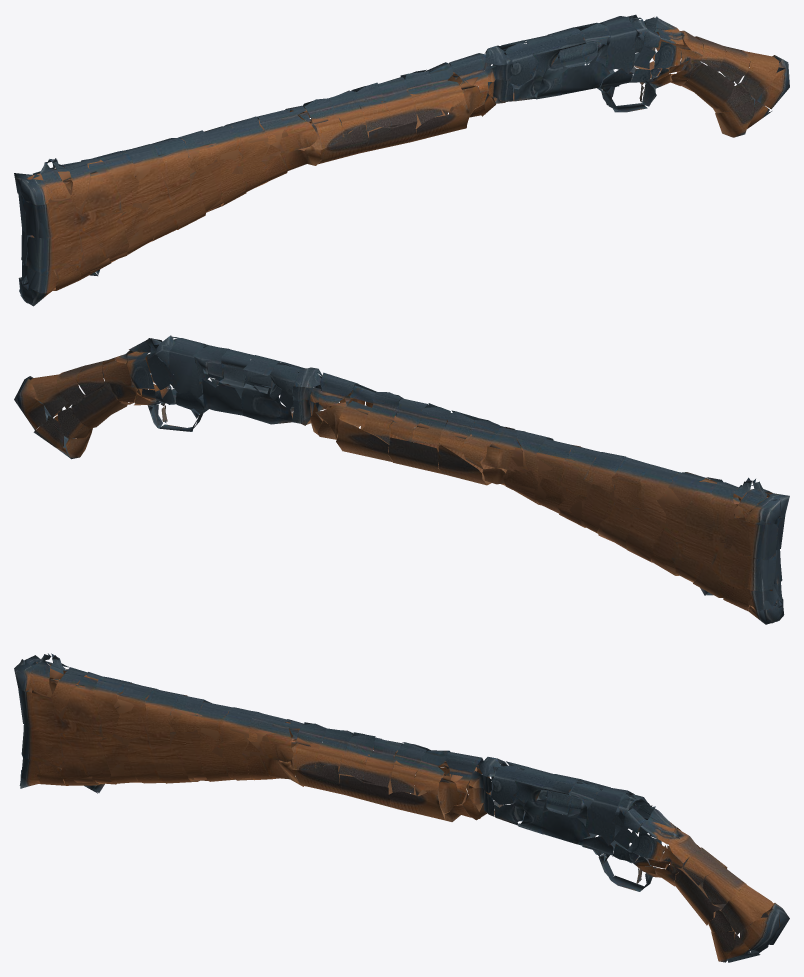
Rendered from shotgun.glb.
The picture shows the model from 3 angles, top to bottom: view 1: azimuth 30°, elevation 25°; view 2: azimuth 150°, elevation 25°; view 3: azimuth 330°, elevation 25°; orthographic projection.
Visible parts, largest first — view 1: Mesh_0; view 2: Mesh_0; view 3: Mesh_0.
Boxes of the visible parts, box(x1,y1,x2,y2) form: Mesh_0: box(14, 14, 789, 306); Mesh_0: box(14, 335, 789, 624); Mesh_0: box(14, 653, 789, 962).
Size of the model in its own units: 1.89 by 0.3482 by 0.1267.
1 material, 1 textured.
